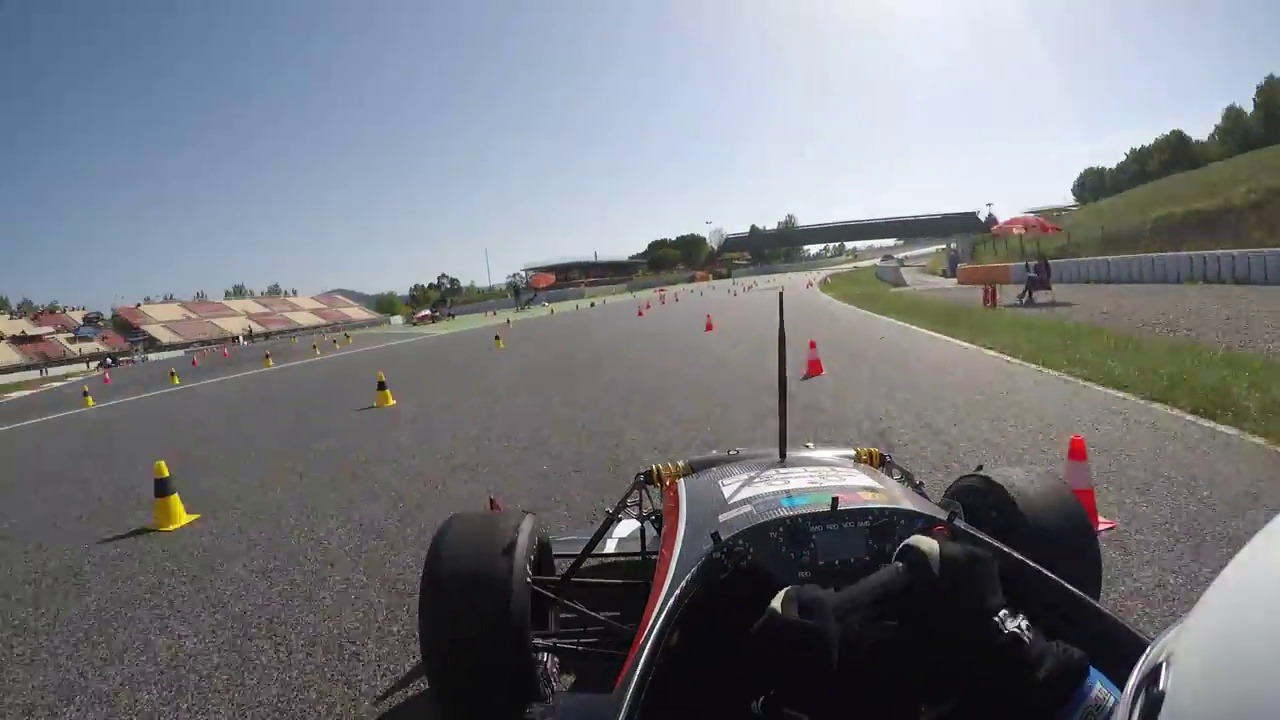Cone: (144, 459, 194, 530), (372, 370, 398, 411), (803, 339, 825, 376)
